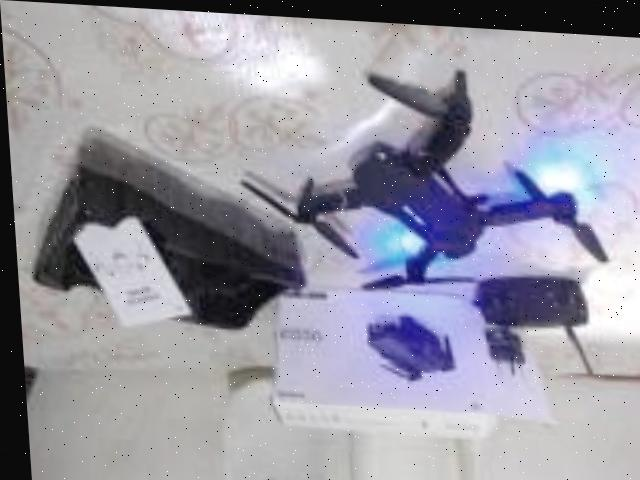drone: (220, 48, 604, 305)
